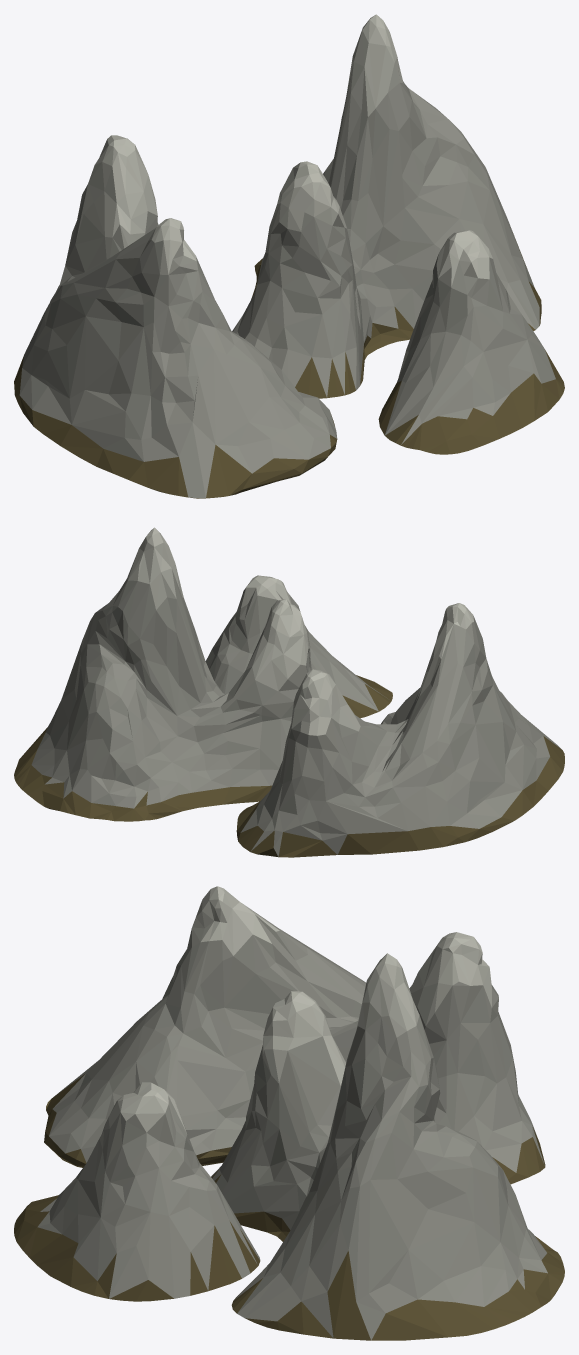
The model's file is Mountain1.gltf.
3 renders of one model, top to bottom at view 1: azimuth 30°, elevation 25°; view 2: azimuth 150°, elevation 25°; view 3: azimuth 270°, elevation 25°, orthographic. The views are drawn at different scales.
Visible parts, largest first — view 1: Mountain_Group_1; view 2: Mountain_Group_1; view 3: Mountain_Group_1.
Boxes of the visible parts, <box> form: Mountain_Group_1: <box>14,14,564,498</box>; Mountain_Group_1: <box>14,527,564,857</box>; Mountain_Group_1: <box>14,886,564,1340</box>.
Size of the model in its own units: 4.59 by 2.49 by 3.84.
